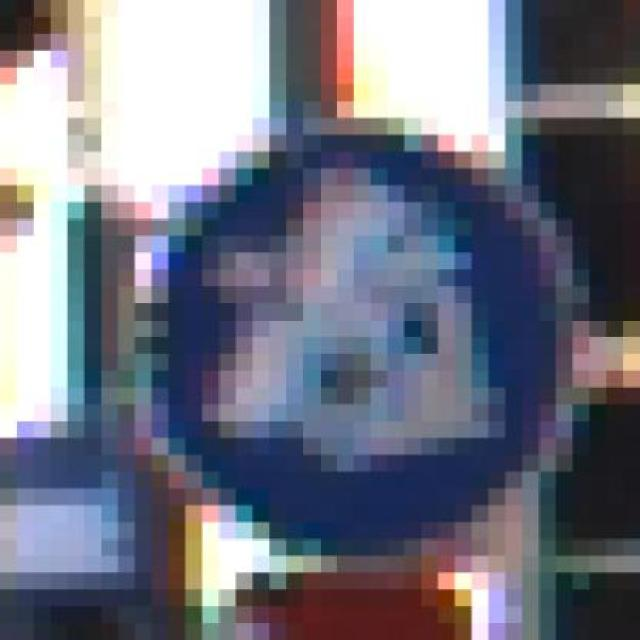Keep-Right: (101, 135, 607, 556)
